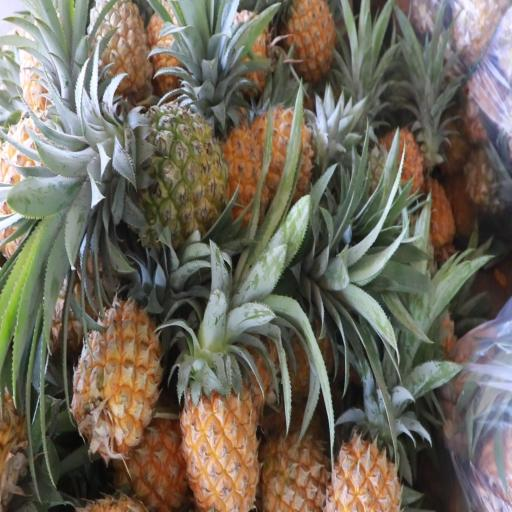Pineapple - v8 v1: (178, 326, 260, 510), (72, 304, 157, 478), (246, 112, 353, 200), (282, 0, 350, 103), (90, 2, 156, 107)
